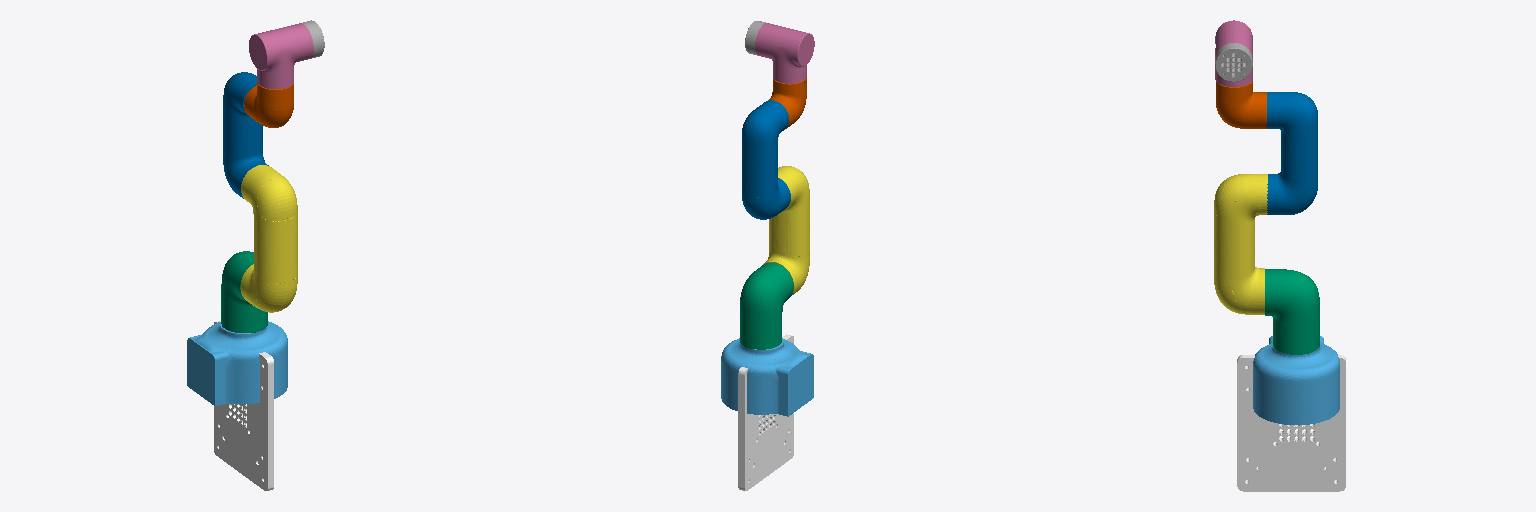
robot.urdf — mycobot_ai:
<?xml version="1.0"?>
<robot xmlns:xacro="http://www.ros.org/wiki/xacro" name="mycobot_ai">


  <link name="env">
    <visual>
      <geometry>
        <!--- 0.0 0 -0.04  1.5708 3.14159-->
        <mesh filename="package://mycobot_description/urdf/mycobot/suit_env.dae"/>
      </geometry>
      <origin xyz = "0 0 -0.02 " rpy = "1.5708 0 -1.5708"/>
    </visual>
  </link>

  <link name="joint1">
    <visual>
      <geometry>
        <!--- 0.0 0 -0.04  1.5708 3.14159-->
        <mesh filename="package://mycobot_description/urdf/mycobot/joint1.dae"/>
      </geometry>
      <origin xyz = "0.0 0 0 " rpy = " 0 0 -1.5708"/>
    </visual>
    <collision>
      <geometry>
        <!--- 0.0 0 -0.04  1.5708 3.14159-->
        <mesh filename="package://mycobot_description/urdf/mycobot/joint1.dae"/>
      </geometry>
      <origin xyz = "0.0 0 0 " rpy = " 0 0 -1.5708"/>
    </collision>
  </link>

  <link name="joint2">
    <visual>
      <geometry>
        <mesh filename="package://mycobot_description/urdf/mycobot/joint2.dae"/>
      </geometry>
      <origin xyz = "0.0 0 -0.06096 " rpy = " 0 0 -1.5708"/>
    </visual>
    <collision>
      <geometry>
        <mesh filename="package://mycobot_description/urdf/mycobot/joint2.dae"/>
      </geometry>
      <origin xyz = "0.0 0 -0.06096 " rpy = " 0 0 -1.5708"/>
    </collision>
  </link>


  <link name="joint3">
    <visual>
      <geometry>
        <mesh filename="package://mycobot_description/urdf/mycobot/joint3.dae"/>
      </geometry>
      <origin xyz = "0.0 0 0.03256 " rpy = " 0 -1.5708 0"/>
    </visual>
    <collision>
      <geometry>
        <mesh filename="package://mycobot_description/urdf/mycobot/joint3.dae"/>
      </geometry>
      <origin xyz = "0.0 0 0.03256 " rpy = " 0 -1.5708 0"/>
    </collision>
  </link>


  <link name="joint4">
    <visual>
      <geometry>
        <!--- 0.0 0 -0.04 -->
        <mesh filename="package://mycobot_description/urdf/mycobot/joint4.dae"/>
      </geometry>
      <origin xyz = "0.0 0 0.03056 " rpy = " 0 -1.5708 0"/>
    </visual>
    <collision>
      <geometry>
        <!--- 0.0 0 -0.04 -->
        <mesh filename="package://mycobot_description/urdf/mycobot/joint4.dae"/>
      </geometry>
      <origin xyz = "0.0 0 0.03056 " rpy = " 0 -1.5708 0"/>
    </collision>
  </link>


  <link name="joint5">
    <visual>
      <geometry>
        <!--- 0.0 0 -0.04 -->
        <mesh filename="package://mycobot_description/urdf/mycobot/joint5.dae"/>
      </geometry>
      <origin xyz = "0.0 0 -0.03356 " rpy = "-1.5708 0 0"/>
    </visual>
    <collision>
      <geometry>
        <!--- 0.0 0 -0.04 -->
        <mesh filename="package://mycobot_description/urdf/mycobot/joint5.dae"/>
      </geometry>
      <origin xyz = "0.0 0 -0.03356 " rpy = "-1.5708 0 0"/>
    </collision>
  </link>


  <link name="joint6">
    <visual>
      <geometry>
        <!--- 0.0 0 -0.04 -->
        <mesh filename="package://mycobot_description/urdf/mycobot/joint6.dae"/>
      </geometry>
      <origin xyz = "0 0.00 -0.038 " rpy = " 0 0 0"/>
    </visual>
    <collision>
      <geometry>
        <!--- 0.0 0 -0.04 -->
        <mesh filename="package://mycobot_description/urdf/mycobot/joint6.dae"/>
      </geometry>
      <origin xyz = "0 0.00 -0.038 " rpy = " 0 0 0"/>
    </collision>
  </link>


  <link name="joint6_flange">
    <visual>
      <geometry>
        <!--- 0.0 0 -0.04 -->
        <mesh filename="package://mycobot_description/urdf/mycobot/joint7.dae"/>
      </geometry>
      <origin xyz = "0.0 0 -0.012 " rpy = " 0 0 0"/>
    </visual>
    <collision>
      <geometry>
        <!--- 0.0 0 -0.04 -->
        <mesh filename="package://mycobot_description/urdf/mycobot/joint7.dae"/>
      </geometry>
      <origin xyz = "0.0 0 -0.012 " rpy = " 0 0 0"/>
    </collision>
  </link>





  <joint name="joint2_to_joint1" type="revolute">
    <axis xyz="0 0 1"/>
    <limit effort = "1000.0" lower = "-3.14" upper = "3.14159" velocity = "0"/>
    <parent link="joint1"/>
    <child link="joint2"/>
    <origin xyz= "0 0 0.13156" rpy = "0 0 0"/>
  </joint>

  <joint name="joint3_to_joint2" type="revolute">
    <axis xyz="0 0 1"/>
    <limit effort = "1000.0" lower = "-3.14" upper = "3.14159" velocity = "0"/>
    <parent link="joint2"/>
    <child link="joint3"/>
    <origin xyz= "0 0  0" rpy = "0 1.5708 -1.5708"/>
  </joint>


  <joint name="joint4_to_joint3" type="revolute">
    <axis xyz=" 0 0 1"/>
    <limit effort = "1000.0" lower = "-3.14" upper = "3.14159" velocity = "0"/>
    <parent link="joint3"/>
    <child link="joint4"/>
    <origin xyz= "  -0.1104 0 0   " rpy = "0 0 0"/>
  </joint>



  <joint name="joint5_to_joint4" type="revolute">
    <axis xyz=" 0 0 1"/>
    <limit effort = "1000.0" lower = "-3.14" upper = "3.14159" velocity = "0"/>
    <parent link="joint4"/>
    <child link="joint5"/>
    <origin xyz= "-0.096 0 0.06462" rpy = "0 0 -1.5708"/>
  </joint>

  <joint name="joint6_to_joint5" type="revolute">
    <axis xyz="0 0 1"/>
    <limit effort = "1000.0" lower = "-3.14" upper = "3.14159" velocity = "0"/>
    <parent link="joint5"/>
    <child link="joint6"/>
    <origin xyz= "0 -0.07318 0" rpy = "1.5708 -1.5708 0"/>
  </joint>

  <joint name="joint6output_to_joint6" type="revolute">
    <axis xyz="0 0 1"/>
    <limit effort = "1000.0" lower = "-3.14" upper = "3.14159" velocity = "0"/>
    <parent link="joint6"/>
    <child link="joint6_flange"/>
    <origin xyz= "0 0.0456 0" rpy = "-1.5708 0 0"/>
  </joint>

  <joint name="vision_joint" type="fixed">
    <axis xyz="0 0 0"/>
    <limit effort = "1000.0" lower = "-3.14" upper = "3.14159" velocity = "0"/>
    <parent link="joint1"/>
    <child link="env"/>
    <origin xyz= "0 0 0" rpy = "0 0 0"/>
  </joint>

</robot>

--- What the picture shows (computed from the rendered views, not written in the file) ---
Views: 3 orthographic renders of the robot side by side, from view 1: azimuth 30°, elevation 25°; view 2: azimuth 150°, elevation 25°; view 3: azimuth 270°, elevation 25°.
Robot: mycobot_ai — 8 links, 7 joints (6 revolute, 1 fixed); root link joint1; default pose: every joint at zero.
Links seen in each view (by area): view 1: joint3, joint1, env, joint4, joint6, joint2, joint5; view 2: joint1, joint4, env, joint2, joint3, joint6, joint5; view 3: env, joint3, joint1, joint4, joint2, joint5, joint6_flange, joint6.
Link boxes in pixels (x1=…): joint3: x1=240, y1=165, x2=297, y2=312; joint1: x1=187, y1=321, x2=287, y2=405; env: x1=214, y1=321, x2=273, y2=490; joint4: x1=223, y1=72, x2=268, y2=198; joint6: x1=249, y1=23, x2=313, y2=88; joint2: x1=221, y1=251, x2=267, y2=332; joint5: x1=244, y1=83, x2=293, y2=127; joint1: x1=721, y1=338, x2=813, y2=416; joint4: x1=742, y1=100, x2=790, y2=219; env: x1=738, y1=334, x2=793, y2=490; joint2: x1=740, y1=263, x2=793, y2=349; joint3: x1=763, y1=166, x2=809, y2=294; joint6: x1=755, y1=23, x2=814, y2=83; joint5: x1=768, y1=78, x2=806, y2=128; env: x1=1237, y1=355, x2=1345, y2=491; joint3: x1=1214, y1=174, x2=1267, y2=314; joint1: x1=1253, y1=336, x2=1339, y2=424; joint4: x1=1267, y1=92, x2=1317, y2=214; joint2: x1=1265, y1=269, x2=1319, y2=354; joint5: x1=1216, y1=80, x2=1266, y2=128; joint6_flange: x1=1215, y1=43, x2=1252, y2=81; joint6: x1=1215, y1=20, x2=1252, y2=86.
Size in the robot's own frame: 0.0993 by 0.1361 by 0.5263 metres.
Meshes: 8 distinct files referenced, 8 mesh visuals loaded (8 Collada DAE).